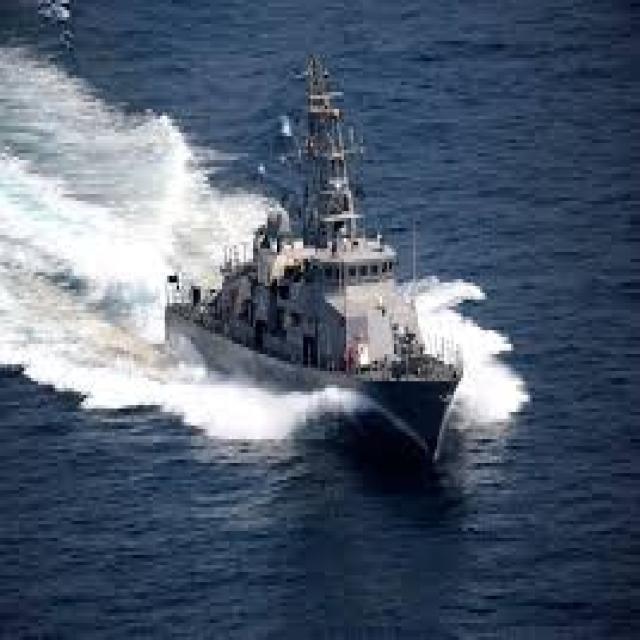navalvessels: (160, 48, 479, 467)
